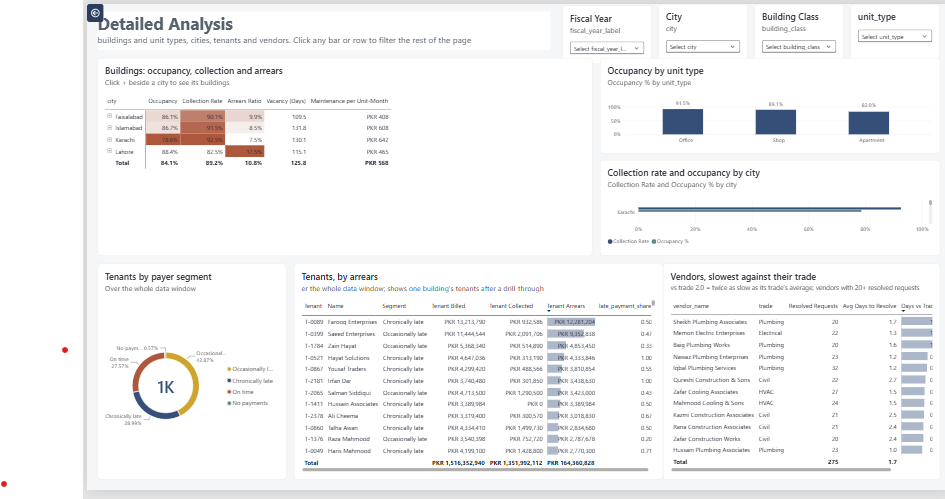

What the dashboard file says about the page in this screenshot:
{"tool":"powerbi","page":{"name":"Detailed Analysis","canvas":[1920,1080],"ordinal":1},"visuals":[{"type":"textbox","box":[24,68,1006,36],"z":0},{"type":"textbox","box":[24,16,1006,56],"z":1000},{"type":"listSlicer","title":"Fiscal Year","fields":{"Values":["vw_dim_date.fiscal_year_label"]},"box":[1056,2,198,130],"z":2000},{"type":"listSlicer","title":"City","fields":{"Values":["vw_dim_building.city"]},"box":[1270,0,198,131.5],"z":3000},{"type":"listSlicer","title":"Building Class","fields":{"Values":["vw_dim_building.building_class"]},"box":[1484,0,198,131.5],"z":4000},{"type":"listSlicer","fields":{"Values":["vw_dim_unit_type.unit_type"]},"box":[1698,0,198,132],"z":5000},{"type":"pivotTable","title":"Buildings: occupancy, collection and arrears","fields":{"Rows":["vw_dim_building.city","vw_dim_building.building_name"],"Values":["_Measures.Occupancy %","_Measures.Collection Rate","_Measures.Arrears Ratio","_Measures.Avg Vacancy Days","_Measures.Maintenance Cost per Unit-Month"]},"box":[24,120,1100,440],"z":5001},{"type":"clusteredColumnChart","title":"Occupancy by unit type","fields":{"Category":["vw_dim_unit_type.unit_type"],"Y":["_Measures.Occupancy %"]},"box":[1140,120,756,212],"z":5002},{"type":"clusteredBarChart","title":"Collection rate and occupancy by city","fields":{"Category":["vw_dim_building.city"],"Y":["_Measures.Collection Rate","_Measures.Occupancy %"]},"box":[1140,348,756,212],"z":5003},{"type":"donutChart","title":"Tenants by payer segment","fields":{"Category":["vw_tenant_analysis.payer_segment"],"Y":["_Measures.Tenants"]},"box":[24,576,420,480],"z":5004},{"type":"tableEx","title":"Tenants, by arrears","fields":{"Values":["vw_tenant_analysis.tenant_code","vw_tenant_analysis.tenant_name","vw_tenant_analysis.payer_segment","_Measures.Tenant Billed","_Measures.Tenant Collected","_Measures.Tenant Arrears","vw_tenant_analysis.late_payment_share"]},"box":[460,576,820,480],"z":5005},{"type":"tableEx","title":"Vendors, slowest against their trade","fields":{"Values":["vw_dim_vendor.vendor_name","vw_dim_vendor.trade","_Measures.Resolved Requests","_Measures.Avg Days to Resolve","_Measures.Days vs Trade","_Measures.SLA Breach %"]},"box":[1280,576,616,480],"z":5006},{"type":"actionButton","box":[0,0,37,40],"z":5008}]}

Visuals, with their boxes on the page's 1920x1080 design canvas (x1, y1, x2, y2). These are canvas units, not pixel positions in the 945x499 screenshot, which may show the page scaled, cropped or inside an application window:
textbox: {"x1": 24, "y1": 68, "x2": 1030, "y2": 104}
textbox: {"x1": 24, "y1": 16, "x2": 1030, "y2": 72}
"Fiscal Year" listSlicer: {"x1": 1056, "y1": 2, "x2": 1254, "y2": 132}
"City" listSlicer: {"x1": 1270, "y1": 0, "x2": 1468, "y2": 132}
"Building Class" listSlicer: {"x1": 1484, "y1": 0, "x2": 1682, "y2": 132}
listSlicer - vw_dim_unit_type.unit_type: {"x1": 1698, "y1": 0, "x2": 1896, "y2": 132}
"Buildings: occupancy, collection and arrears" pivotTable: {"x1": 24, "y1": 120, "x2": 1124, "y2": 560}
"Occupancy by unit type" clusteredColumnChart: {"x1": 1140, "y1": 120, "x2": 1896, "y2": 332}
"Collection rate and occupancy by city" clusteredBarChart: {"x1": 1140, "y1": 348, "x2": 1896, "y2": 560}
"Tenants by payer segment" donutChart: {"x1": 24, "y1": 576, "x2": 444, "y2": 1056}
"Tenants, by arrears" tableEx: {"x1": 460, "y1": 576, "x2": 1280, "y2": 1056}
"Vendors, slowest against their trade" tableEx: {"x1": 1280, "y1": 576, "x2": 1896, "y2": 1056}
actionButton: {"x1": 0, "y1": 0, "x2": 37, "y2": 40}
